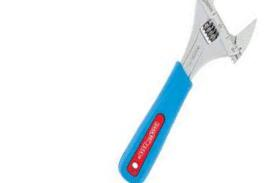wrench: (1, 96, 155, 180)
